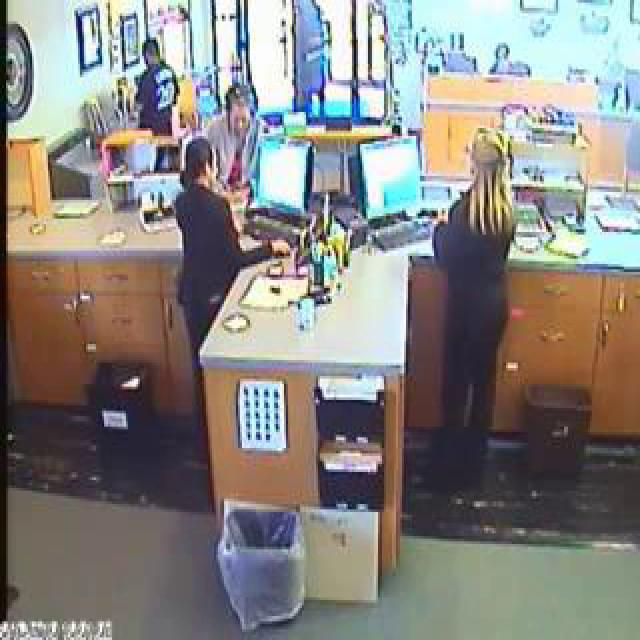robbery: (138, 50, 338, 356)
